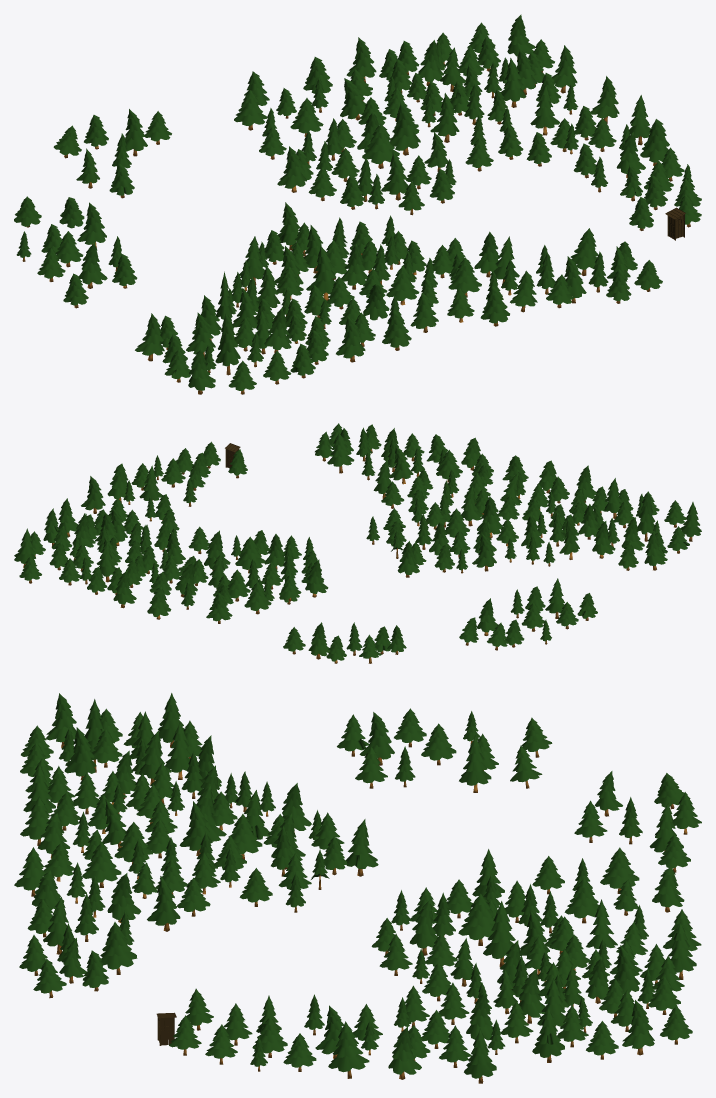
Rendered from trees .fbx.
3 renders of one model, top to bottom at view 1: azimuth 30°, elevation 25°; view 2: azimuth 150°, elevation 25°; view 3: azimuth 270°, elevation 25°, orthographic. The views are drawn at different scales.
Visible parts, largest first — view 1: Tree4.028, Tree2.040, Tree1.013, Tree1.042, Tree4.006, Tree2.052, Tree4.012, Tree4.043, Tree4.037, Tree4.040, Tree2.039, Tree4.008 (+28 smaller); view 2: Tree2.040, Tree2.052, Tree1.013, Tree4.006, Tree4.028, Tree1.042, Tree4.022, Tree4.045, Tree2.039, Tree4.049, Tree4.039, Tree4.012 (+28 smaller); view 3: Tree1.042, Tree2.040, Tree2.052, Tree4.028, Tree4.018, Tree4.045, Tree4.004, Tree2.016, Tree4.048, Tree4.038, Tree4.044, Tree2.039 (+73 smaller).
Part boxes in pixels (bbox=[...]): Tree4.028: bbox=[390, 102, 420, 155]; Tree2.040: bbox=[362, 123, 399, 168]; Tree1.013: bbox=[215, 313, 240, 375]; Tree1.042: bbox=[640, 119, 669, 165]; Tree4.006: bbox=[306, 245, 336, 300]; Tree2.052: bbox=[570, 228, 598, 275]; Tree4.012: bbox=[277, 146, 306, 192]; Tree4.043: bbox=[336, 316, 365, 362]; Tree4.037: bbox=[135, 313, 164, 361]; Tree4.040: bbox=[188, 348, 215, 394]; Tree2.039: bbox=[234, 90, 266, 130]; Tree4.008: bbox=[78, 242, 107, 288]; Tree2.040: bbox=[235, 536, 265, 573]; Tree2.052: bbox=[327, 433, 354, 473]; Tree1.013: bbox=[637, 491, 655, 541]; Tree4.006: bbox=[477, 496, 502, 538]; Tree4.028: bbox=[204, 530, 230, 570]; Tree1.042: bbox=[107, 463, 132, 502]; Tree4.022: bbox=[472, 533, 496, 571]; Tree4.045: bbox=[81, 476, 105, 513]; Tree2.039: bbox=[244, 581, 271, 614]; Tree4.049: bbox=[389, 446, 413, 484]; Tree4.039: bbox=[592, 521, 615, 558]; Tree4.012: bbox=[305, 559, 328, 597]; Tree1.042: bbox=[328, 1021, 369, 1078]; Tree2.040: bbox=[458, 893, 495, 945]; Tree2.052: bbox=[100, 922, 137, 974]; Tree4.028: bbox=[483, 901, 519, 967]; Tree4.018: bbox=[622, 1000, 654, 1055]; Tree4.045: bbox=[388, 1026, 421, 1079]; Tree4.004: bbox=[346, 819, 378, 876]; Tree2.016: bbox=[82, 841, 121, 887]; Tree4.048: bbox=[147, 876, 180, 931]; Tree4.038: bbox=[64, 727, 96, 780]; Tree4.044: bbox=[464, 1028, 496, 1083]; Tree2.039: bbox=[600, 847, 639, 893].
Bounding box in the file's own units: 12071 × 1326 × 10133.
